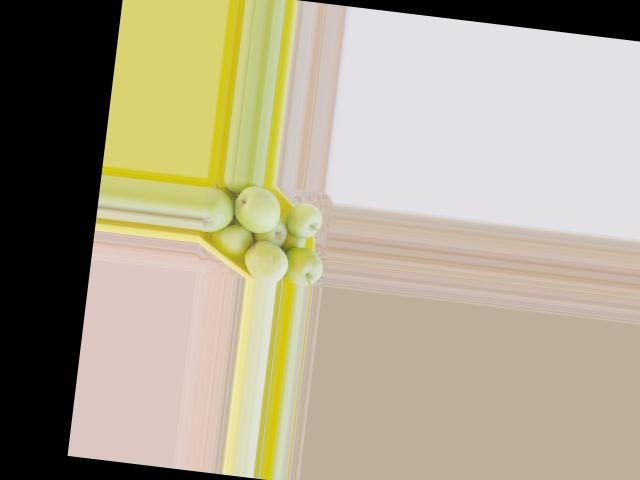apple: (207, 220, 253, 265)
